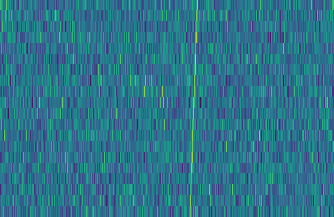signal: (185, 0, 202, 217)
